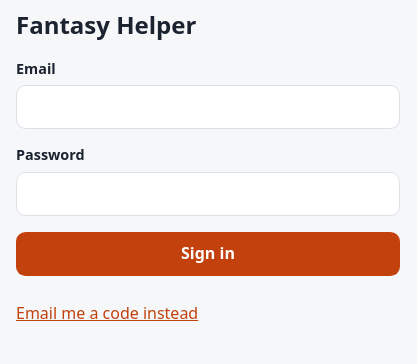
Scenario: sign-in with an emailed code › sends a code to the email, then takes the 6 digits (numeric keypad, one-time-code autofill)
Later steps or results of the test are not shown.
Click the button "Email me a code instead".
click(107, 314)  # box [16, 292, 198, 336]
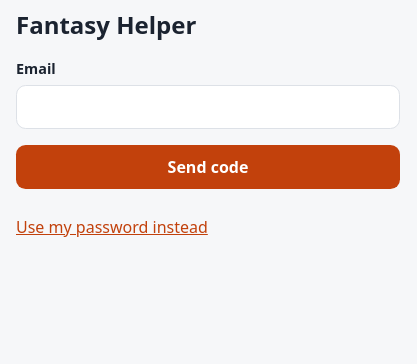
Type "friend@example.com" into the field labelled "Email".
click(208, 107); type("friend@example.com")  # box [16, 85, 400, 129]
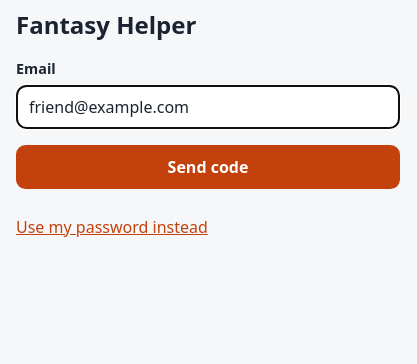
Click the button "Send code".
click(208, 167)  # box [16, 145, 400, 189]
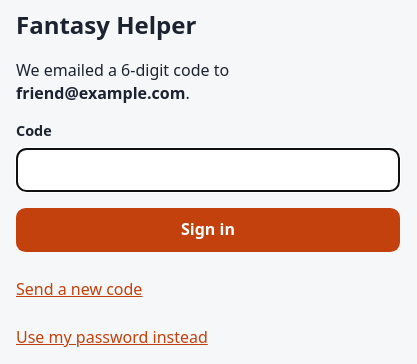
Expected: the text "friend@example.com" is shown, [16, 82, 185, 104]
